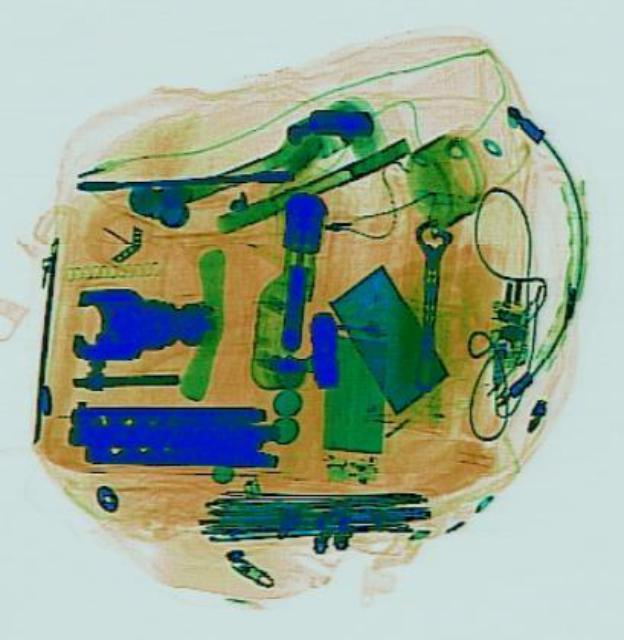Wrench: (403, 217, 453, 391)
